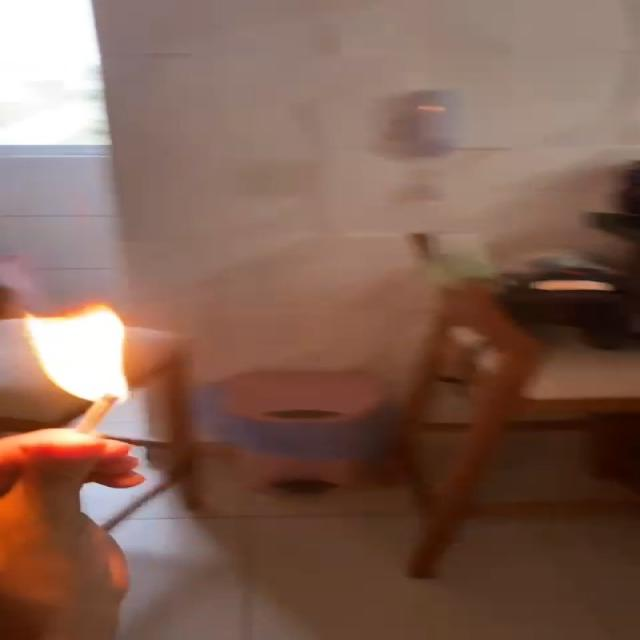fogo-ypXI: (20, 301, 134, 408)
